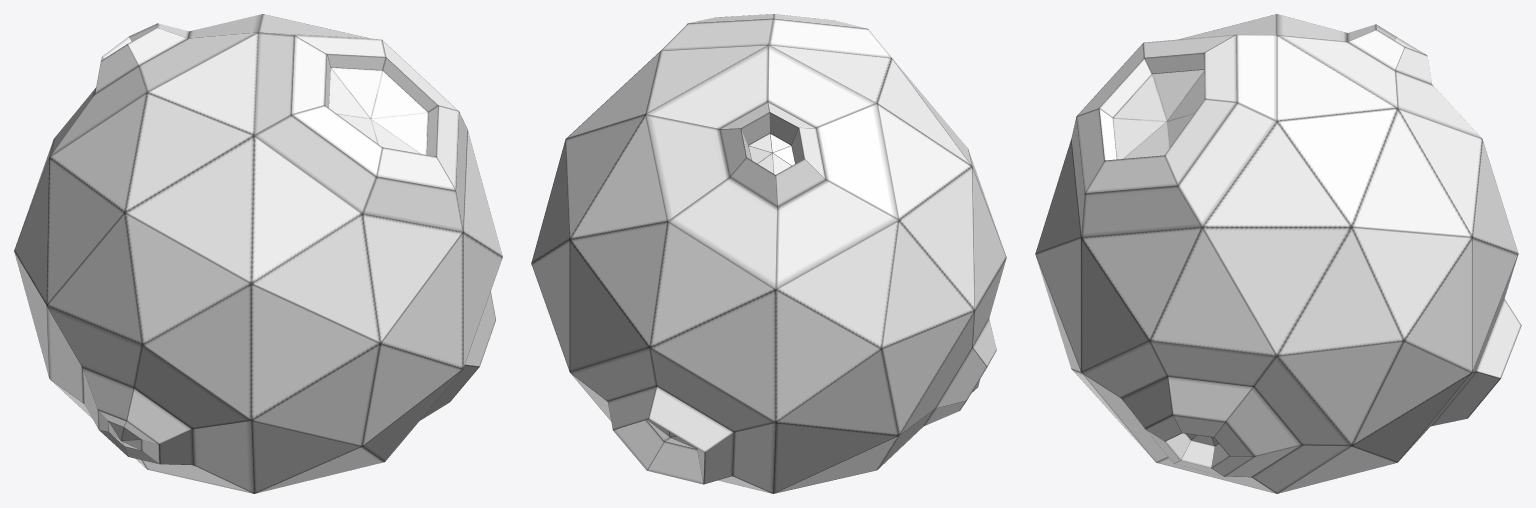
File: Planet-02.fbx
The picture shows the model from 3 angles, left to right: view 1: azimuth 30°, elevation 25°; view 2: azimuth 150°, elevation 25°; view 3: azimuth 270°, elevation 25°; orthographic projection. The views are drawn at different scales.
Visible parts, largest first — view 1: Planet_02; view 2: Planet_02; view 3: Planet_02.
Part boxes in pixels (bbox=[...]): Planet_02: bbox=[14, 14, 502, 493]; Planet_02: bbox=[531, 14, 1006, 493]; Planet_02: bbox=[1035, 14, 1521, 493].
Bounding box in the file's own units: 5.76 × 5.86 × 5.8.
